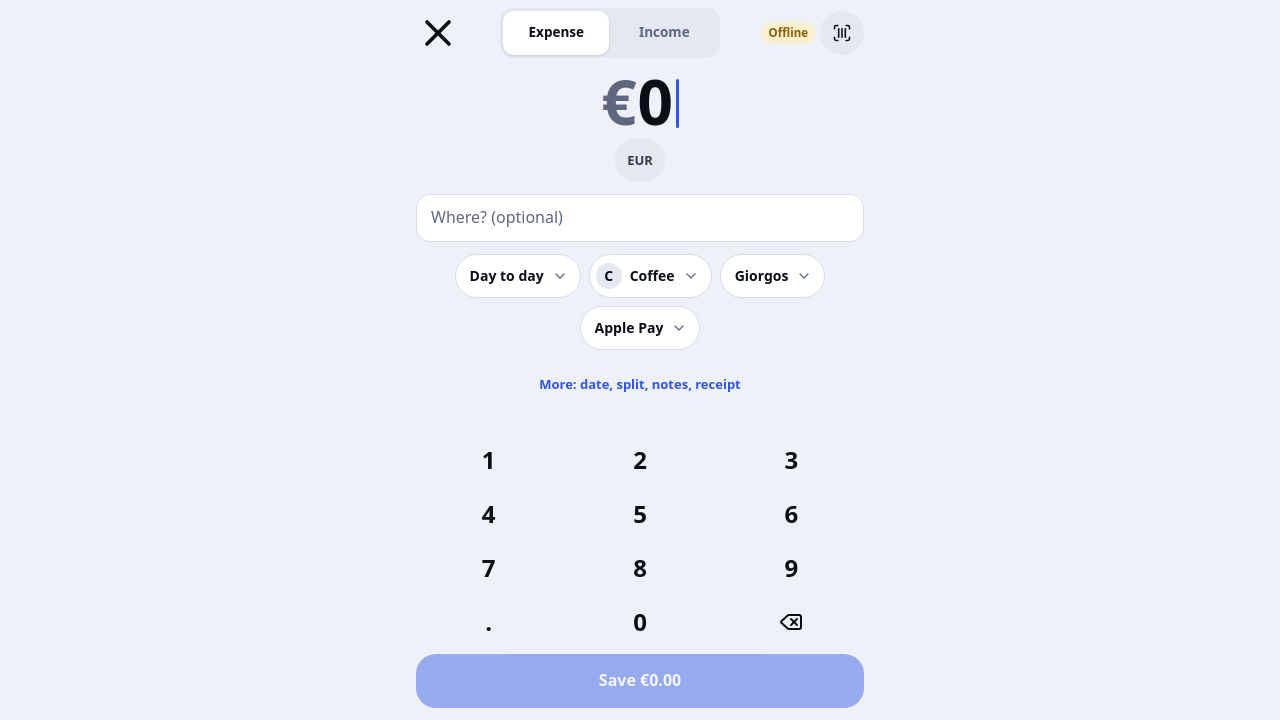
Scenario: offline: the scan screen says it needs a connection
The width and height of the screenshot is (1280, 720).
Expected: the button with aria-label "Bucket: Day to day. Change" is shown, [455, 254, 581, 298]
Step 1. Click the button named "Scan" → coordinates (842, 33), box [820, 11, 864, 55]
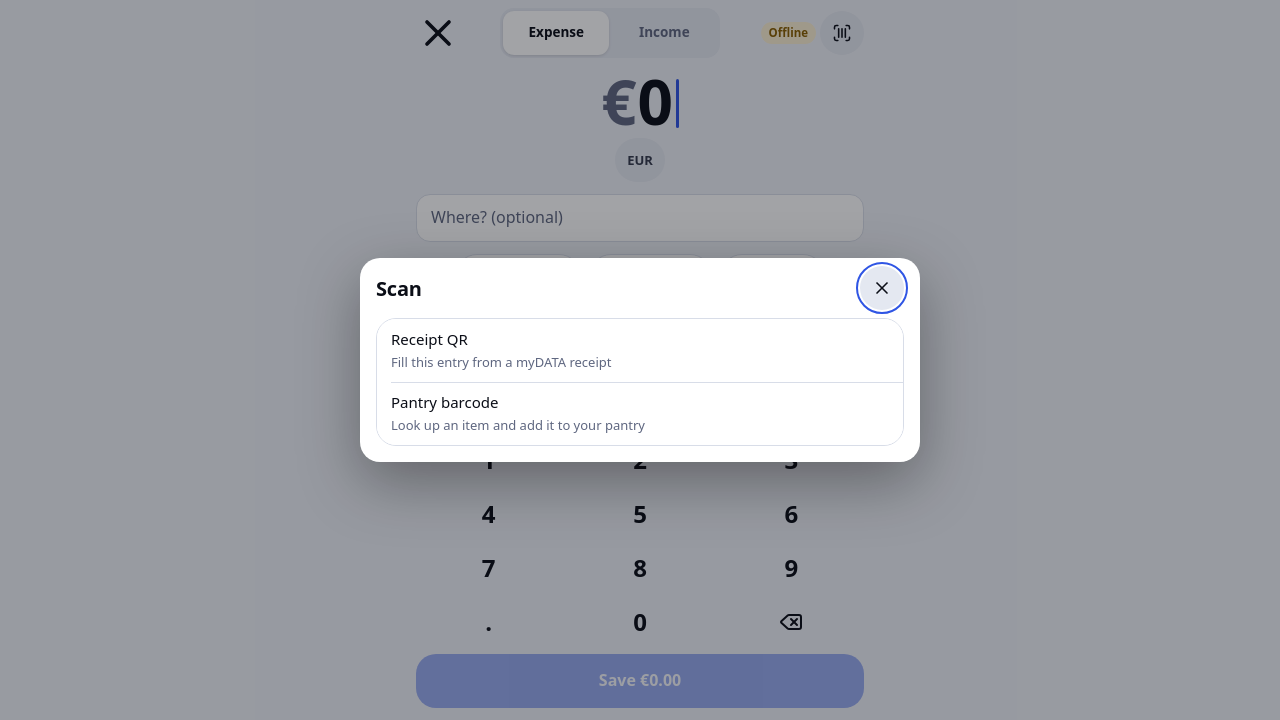
Step 2. Click the button "Receipt QR Fill this entry from a myDATA receipt" → coordinates (429, 339), box [377, 319, 903, 382]
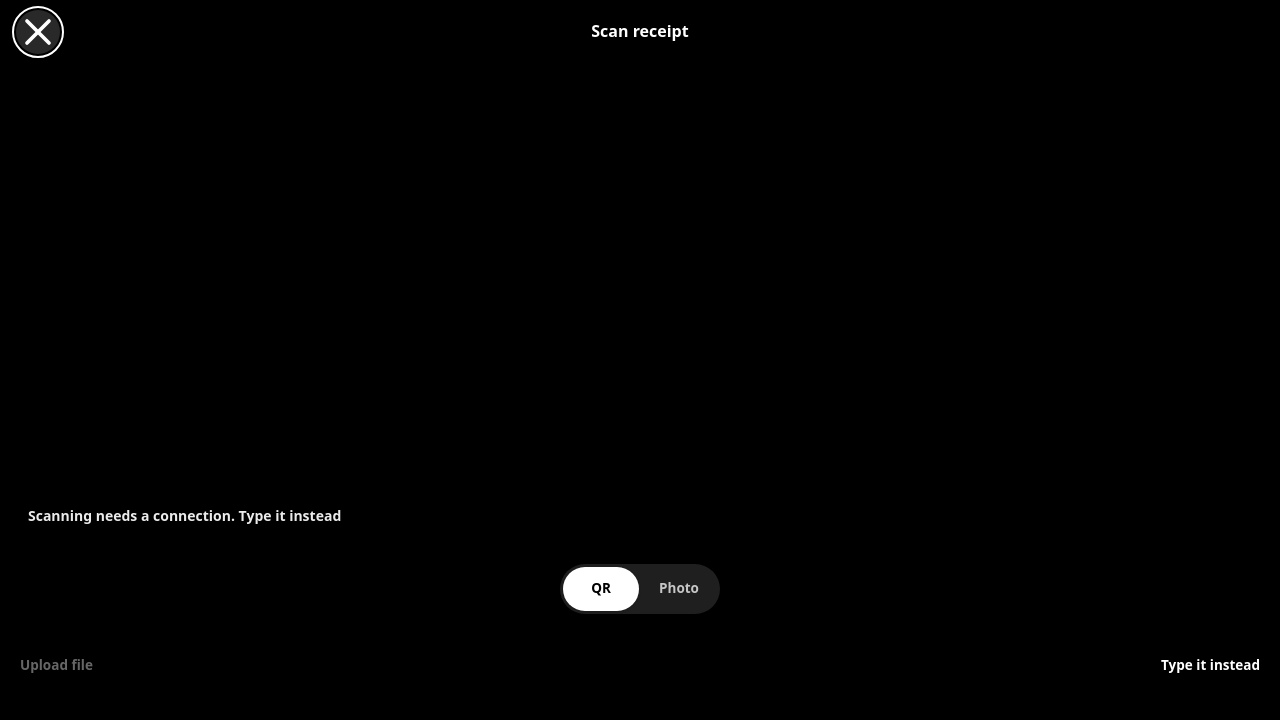
Expected: the text "Scanning needs a connection. Type it instead" is shown, [28, 506, 341, 525]
Step 3. Click the button "Type it instead" → coordinates (1210, 666), box [1157, 644, 1264, 688]
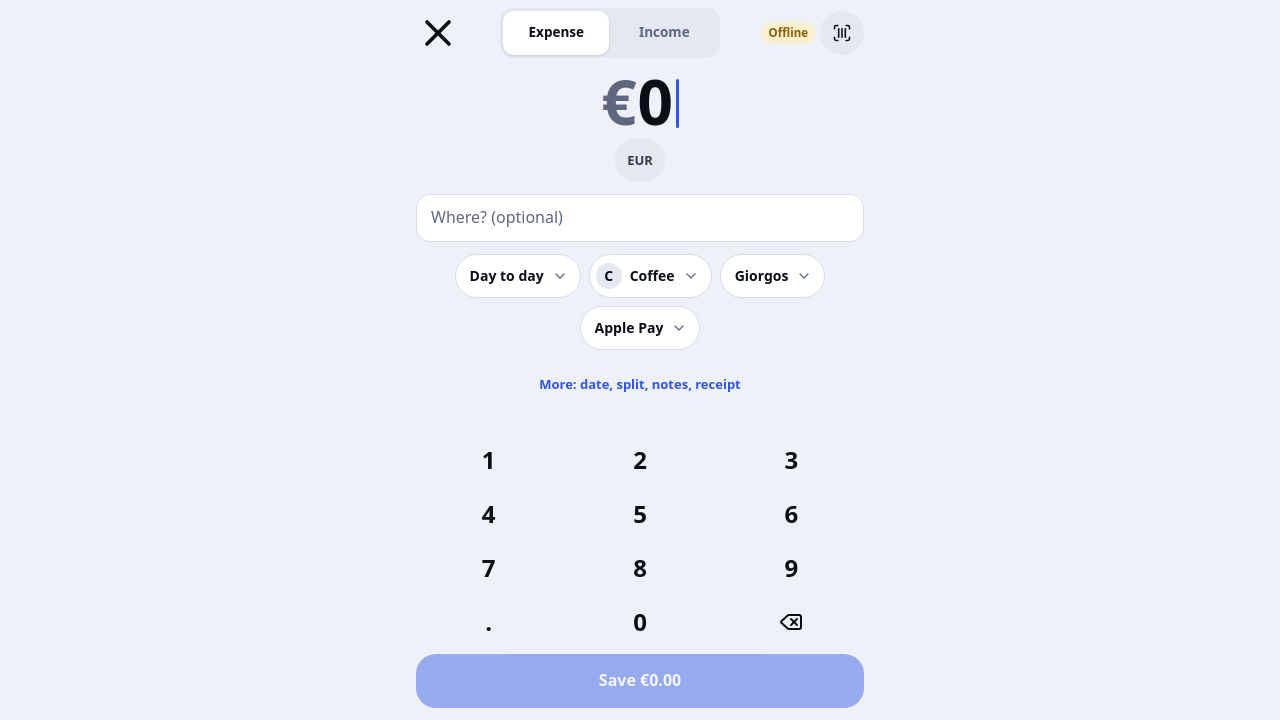
Expected: the heading "Scan receipt" is gone
